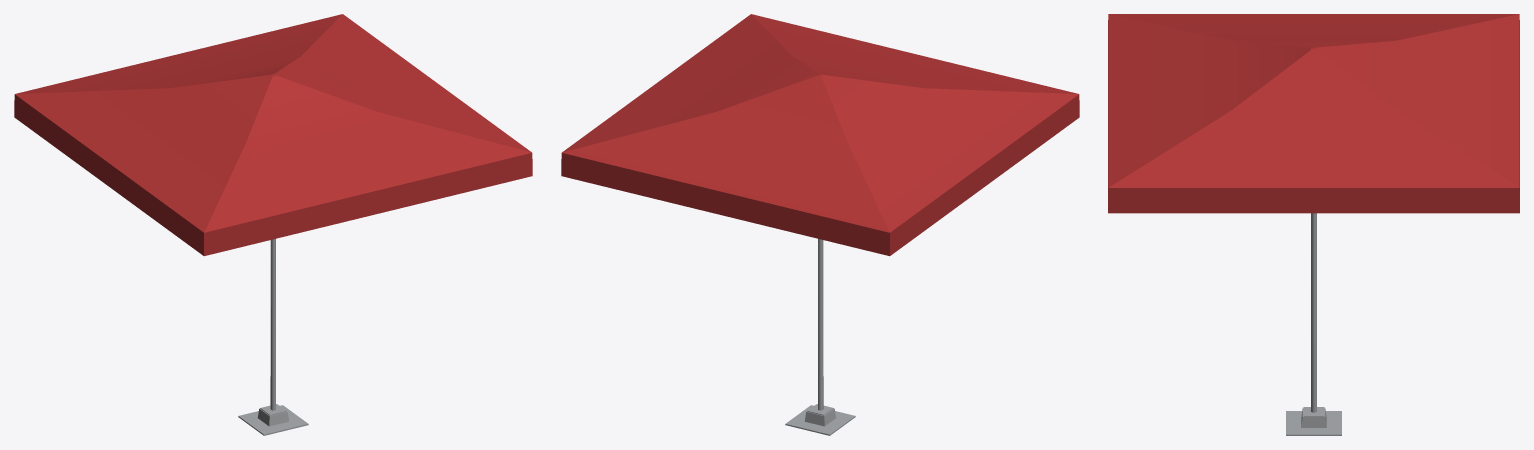
File: SM_sunshade_square.fbx
The picture shows the model from 3 angles, left to right: view 1: azimuth 30°, elevation 25°; view 2: azimuth 150°, elevation 25°; view 3: azimuth 270°, elevation 25°; orthographic projection. The views are drawn at different scales.
Visible parts, largest first — view 1: Box042; view 2: Box042; view 3: Box042.
Part boxes in pixels (x1=…): Box042: x1=14, y1=14, x2=532, y2=435; Box042: x1=561, y1=14, x2=1079, y2=435; Box042: x1=1108, y1=14, x2=1519, y2=435.
Bounding box in the file's own units: 127 × 127 × 128.
